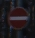No entry: (6, 5, 30, 33)
